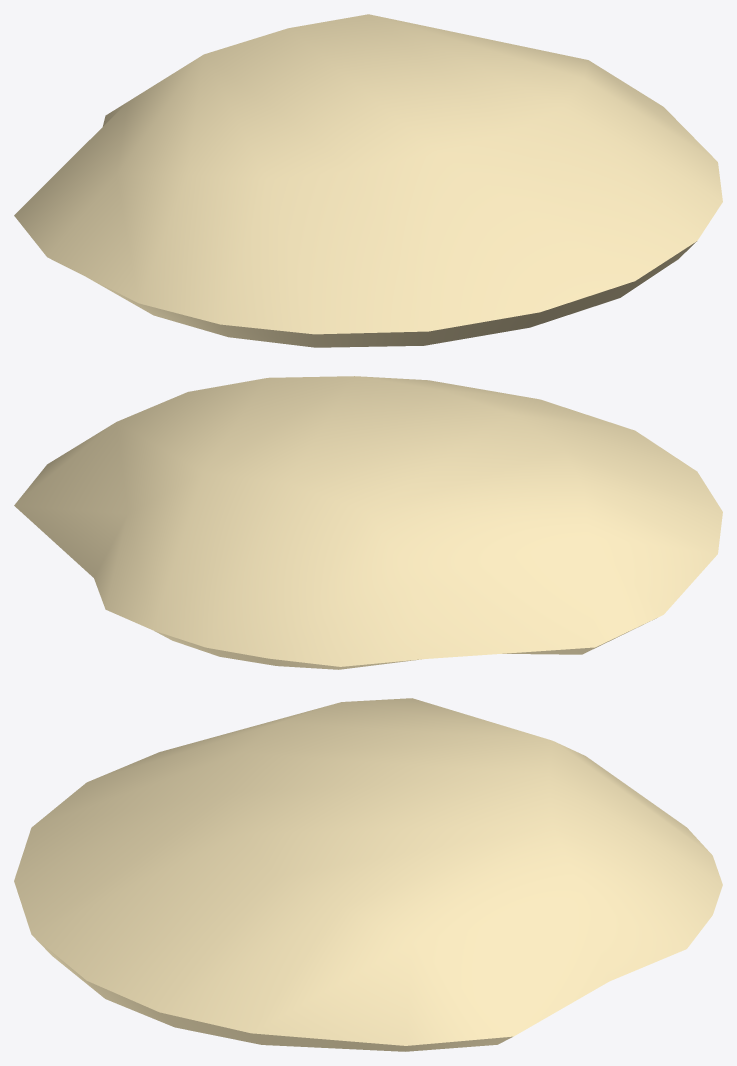
The model's file is ShellA.fbx.
3 renders of one model, top to bottom at view 1: azimuth 30°, elevation 25°; view 2: azimuth 150°, elevation 25°; view 3: azimuth 270°, elevation 25°, orthographic. The views are drawn at different scales.
Visible parts, largest first — view 1: ShellA; view 2: ShellA; view 3: ShellA.
Part boxes in pixels (x1,y1,x2,y2): ShellA: (14,14,722,347); ShellA: (14,376,722,669); ShellA: (14,698,722,1051).
Size of the model in its own units: 18.27 by 3.46 by 17.15.
1 material, 1 textured.
